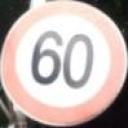speed_limit_60: (0, 0, 122, 125)
